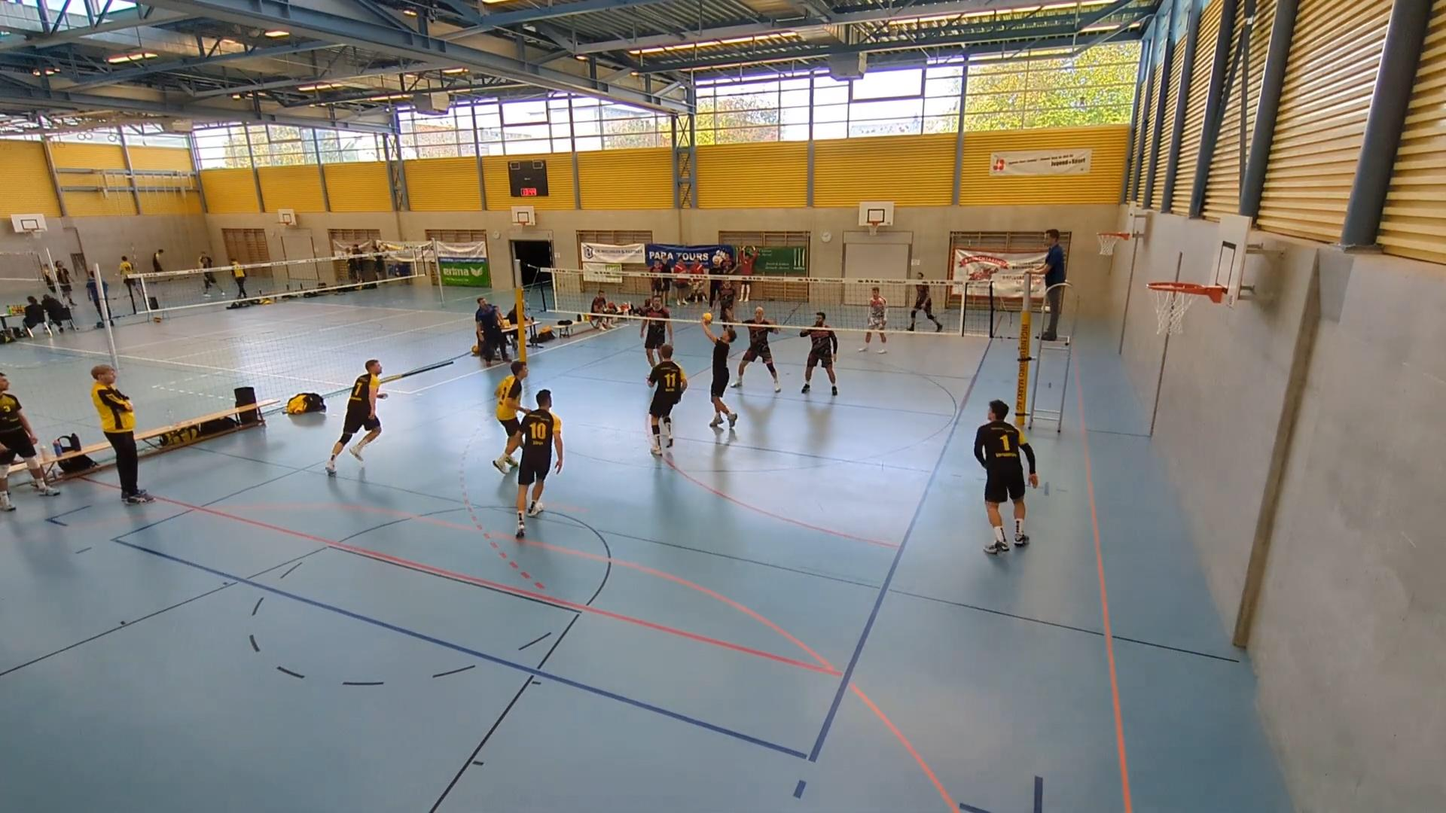Player: (975, 400, 1038, 553), (325, 359, 386, 475), (516, 389, 563, 537), (647, 344, 687, 455), (732, 307, 780, 392), (493, 361, 528, 473), (801, 312, 838, 395), (639, 297, 673, 366), (859, 288, 887, 353), (908, 282, 942, 332), (718, 276, 737, 322)
Set: (697, 317, 741, 438)
ball: (700, 314, 718, 322)
